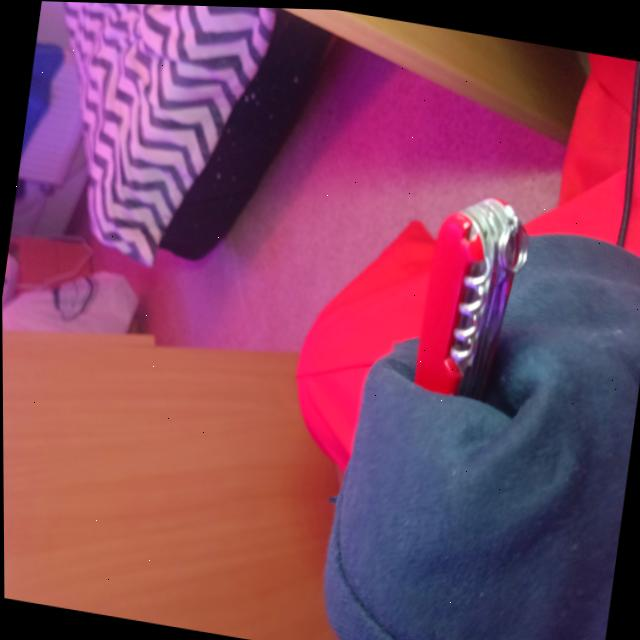knife victorinox: (414, 196, 521, 395)
